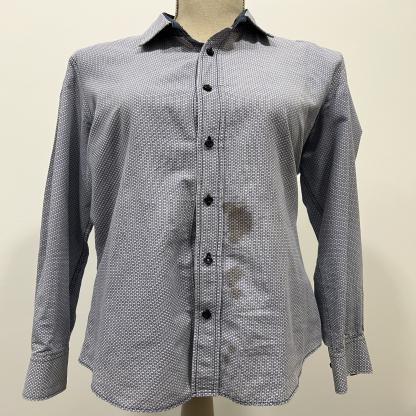stain: (217, 196, 259, 250), (215, 262, 252, 307)
